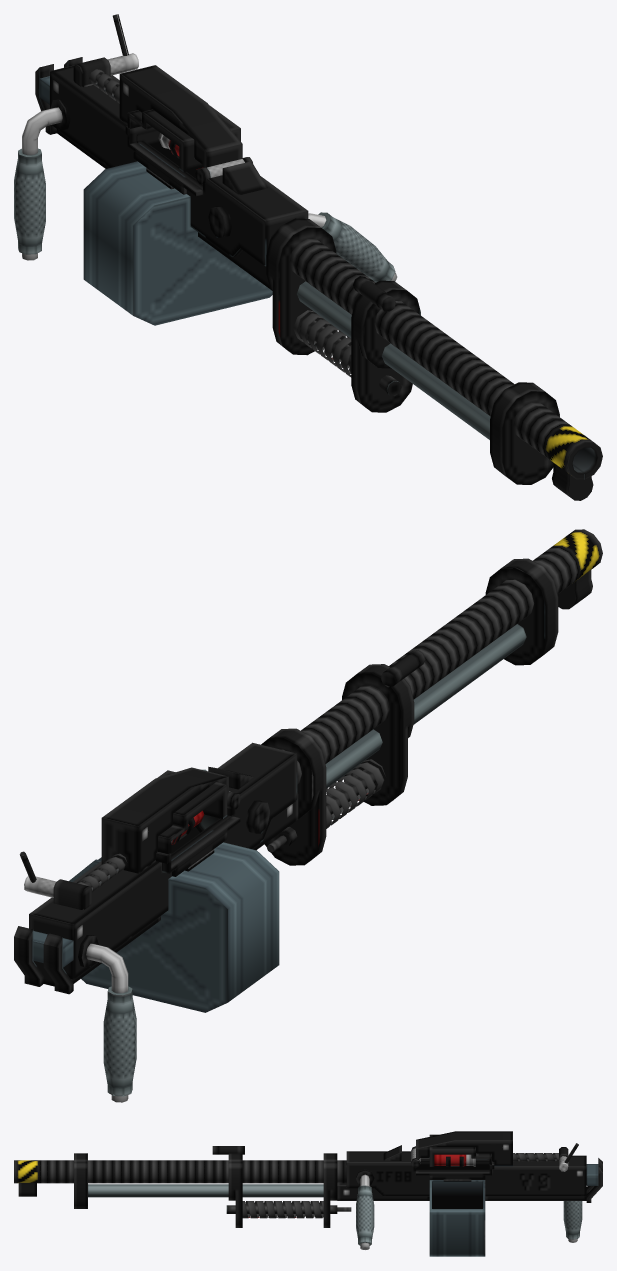
File: heretic.obj
The picture shows the model from 3 angles, top to bottom: view 1: azimuth 30°, elevation 25°; view 2: azimuth 150°, elevation 25°; view 3: azimuth 270°, elevation 25°; orthographic projection. The views are drawn at different scales.
Visible parts, largest first — view 1: Gun, Barrel, Magazine, Hood, RecoilSpring, Lever; view 2: Gun, Magazine, Barrel, Hood, RecoilSpring, LockSpring; view 3: Gun, Barrel, Magazine, Hood, RecoilSpring, Shell, LockSpring, Lever.
Boxes of the visible parts, x1=… form: Gun: x1=14, y1=57, x2=559, y2=484; Barrel: x1=271, y1=227, x2=602, y2=500; Magazine: x1=83, y1=161, x2=272, y2=325; Hood: x1=119, y1=65, x2=244, y2=177; RecoilSpring: x1=293, y1=310, x2=351, y2=377; Lever: x1=107, y1=14, x2=138, y2=75; Gun: x1=14, y1=558, x2=558, y2=1102; Magazine: x1=69, y1=842, x2=279, y2=1012; Barrel: x1=282, y1=529, x2=602, y2=805; Hood: x1=101, y1=767, x2=230, y2=873; RecoilSpring: x1=326, y1=759, x2=385, y2=828; LockSpring: x1=77, y1=853, x2=127, y2=892; Gun: x1=74, y1=1145, x2=602, y2=1249; Barrel: x1=14, y1=1146, x2=346, y2=1227; Magazine: x1=429, y1=1180, x2=485, y2=1256; Hood: x1=411, y1=1131, x2=512, y2=1166; RecoilSpring: x1=242, y1=1201, x2=323, y2=1218; Shell: x1=434, y1=1154, x2=475, y2=1166; LockSpring: x1=513, y1=1153, x2=558, y2=1161; Lever: x1=559, y1=1143, x2=578, y2=1171.
Bounding box in the file's own units: 3.57 × 3.64 × 15.94.
